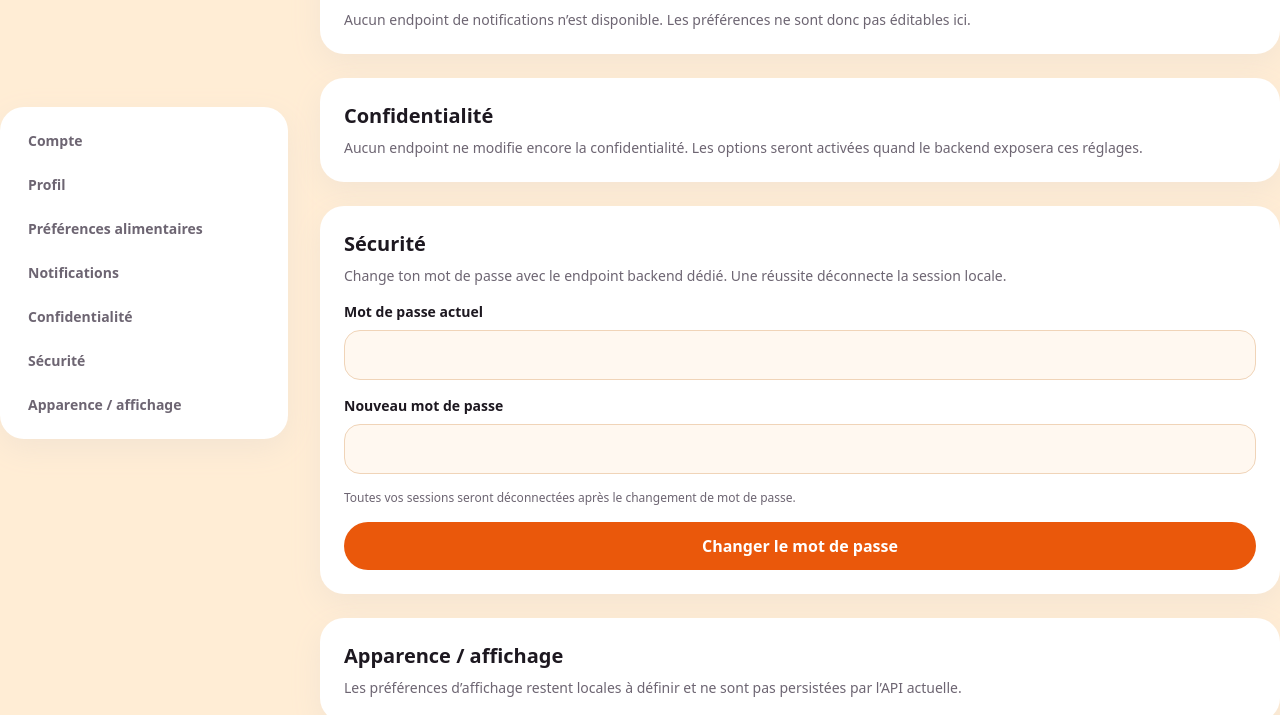
SettingsPage › Change Password form › 401 from change-password renders "Mot de passe actuel incorrect." and does not clear the current session
(page scrolled)
Type "WrongPass123!" into the password field labelled "Mot de passe actuel" at [800, 355], box [344,330,1256,380]
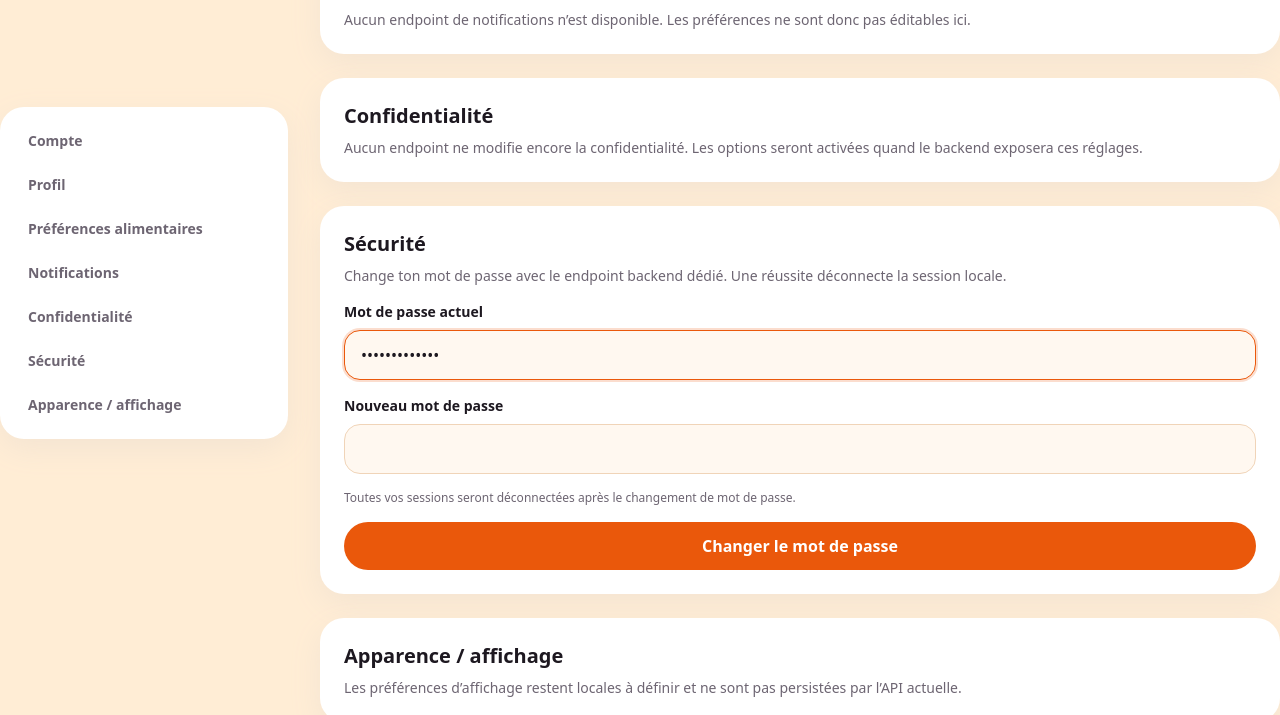
Type "NewPass123!@" into the password field labelled "Nouveau mot de passe" at [800, 449], box [344,424,1256,474]
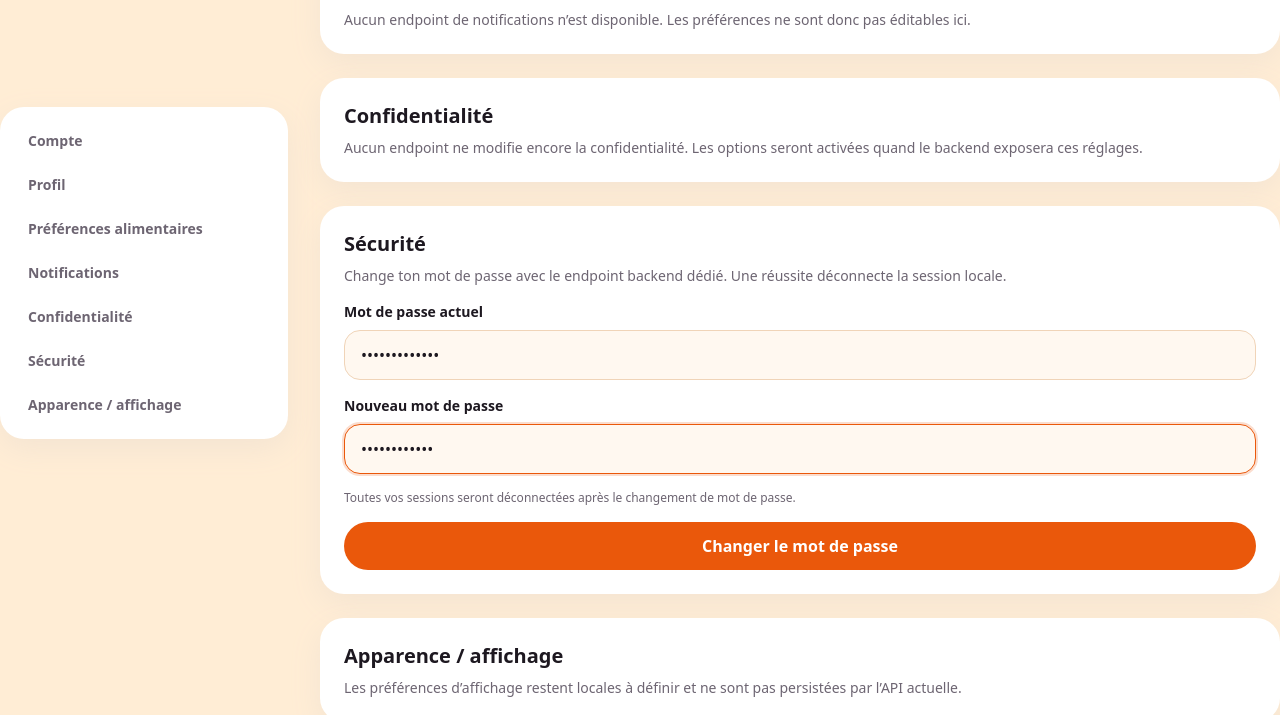
Click the button "Changer le mot de passe" at [800, 546], box [344,522,1256,570]
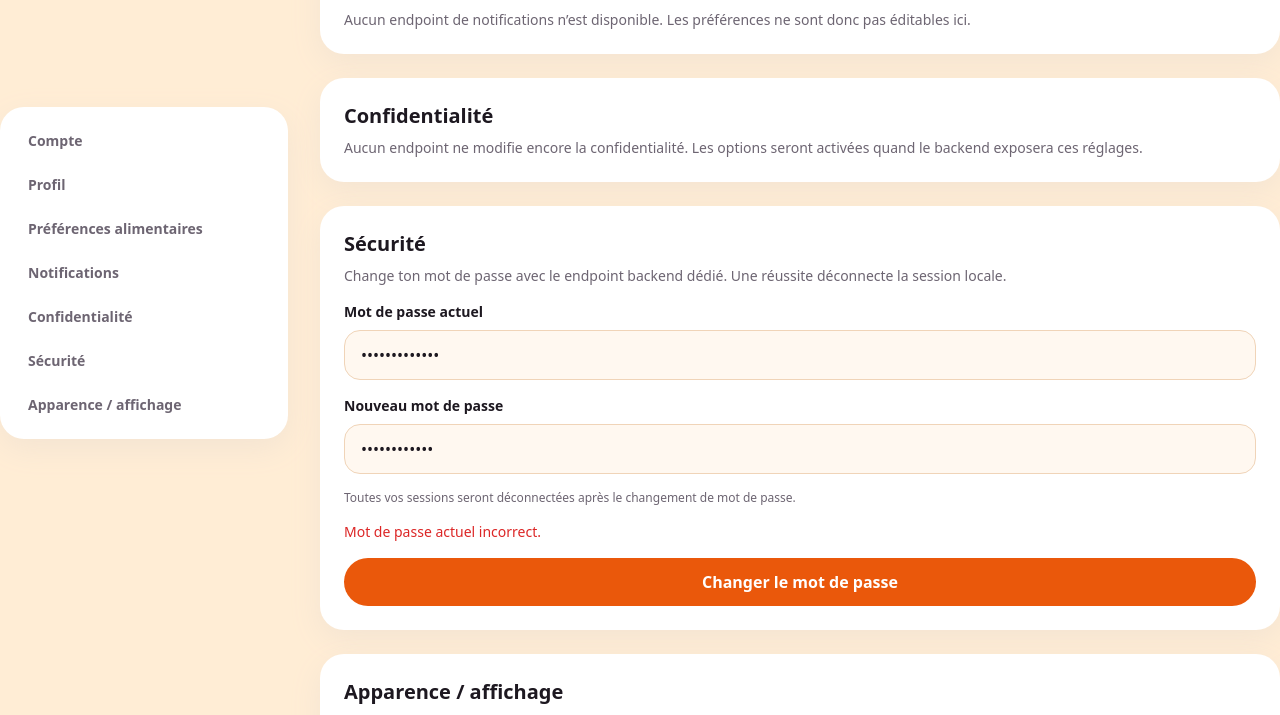
Result: the message reads "Mot de passe actuel incorrect." at [344,522,541,541]
